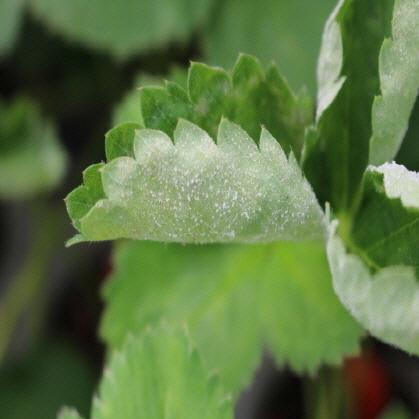Powdery Mildew Leaf: (61, 50, 322, 248), (299, 0, 418, 217), (321, 159, 418, 358)
